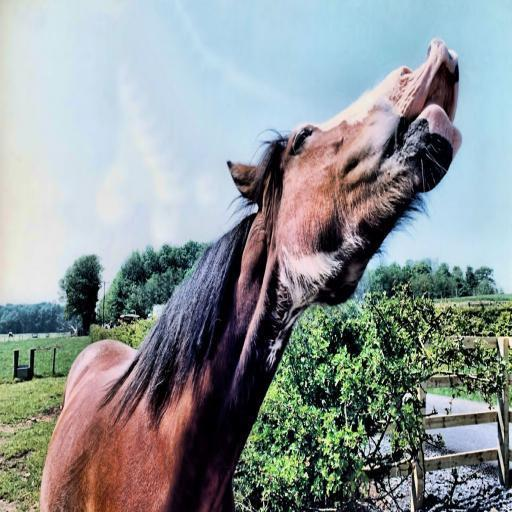horse: (38, 32, 464, 512)
